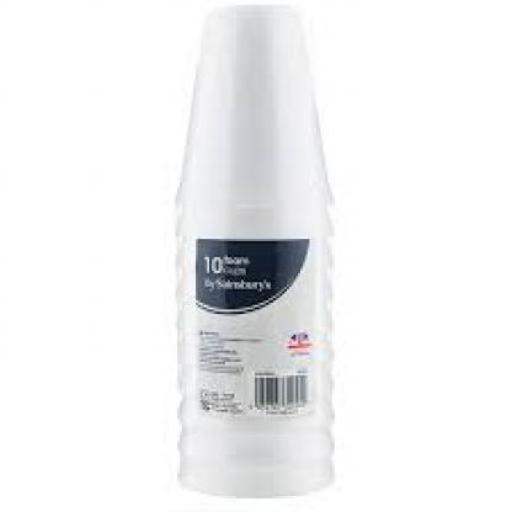paper: (170, 2, 333, 496), (173, 0, 330, 203)
